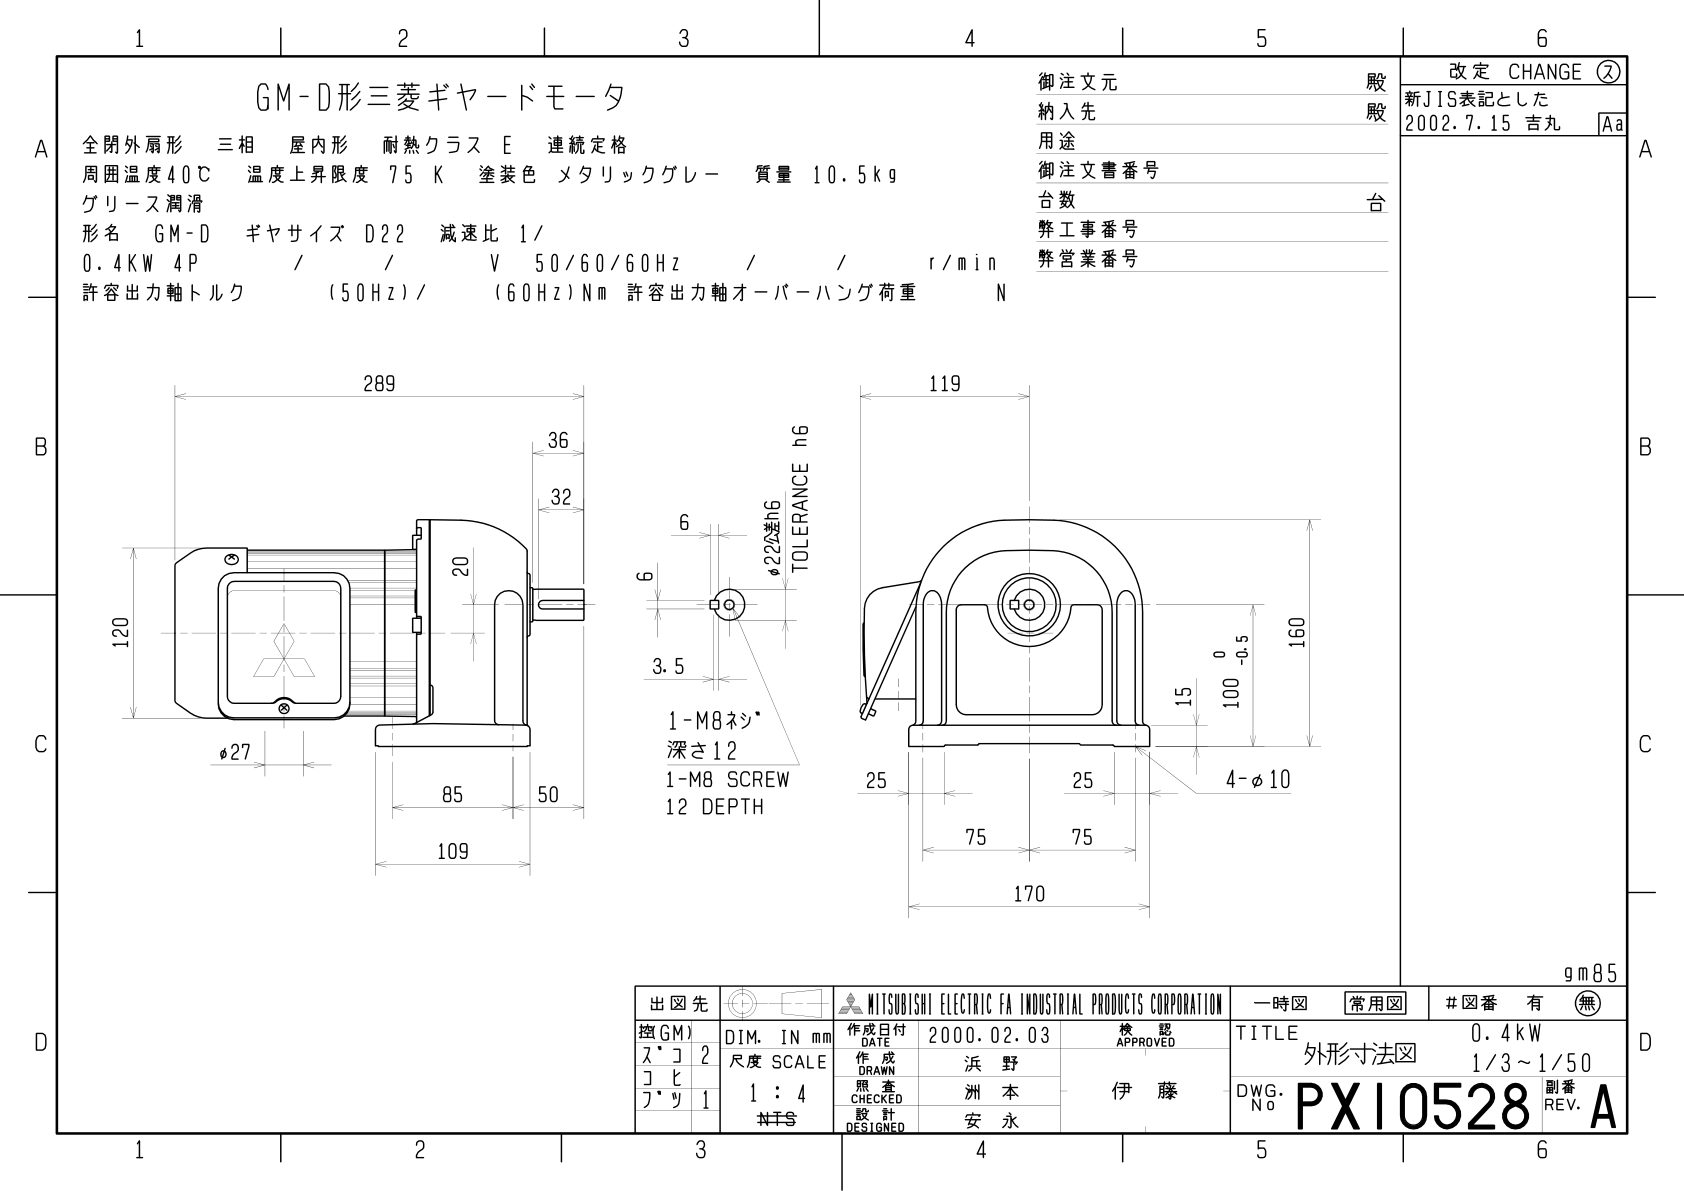GM_D_屋内＿三相_脚: (13, 12, 1684, 1191)
